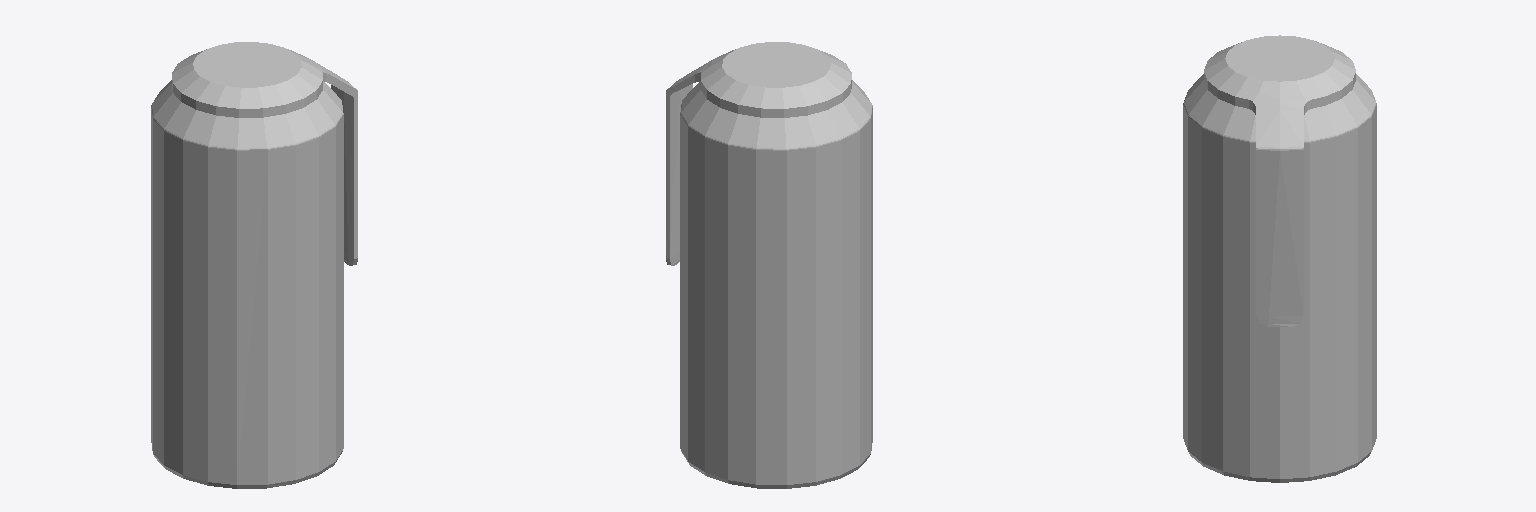
Rendered from Grenade.obj.
3 views of the same model, side by side, from view 1: azimuth 30°, elevation 25°; view 2: azimuth 150°, elevation 25°; view 3: azimuth 270°, elevation 25° (orthographic).
Visible parts, largest first — view 1: Mesh; view 2: Mesh; view 3: Mesh.
Boxes of the visible parts, box(x1,y1,x2,y2) form: Mesh: box(151, 42, 357, 488); Mesh: box(666, 42, 872, 488); Mesh: box(1183, 35, 1376, 482).
Size of the model in its own units: 0.4469 by 0.8935 by 0.4057.